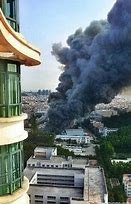smoke: (45, 1, 131, 122)
